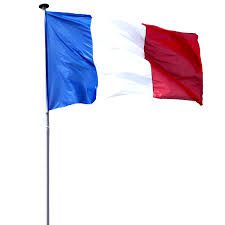French Flag: (45, 11, 203, 107)
